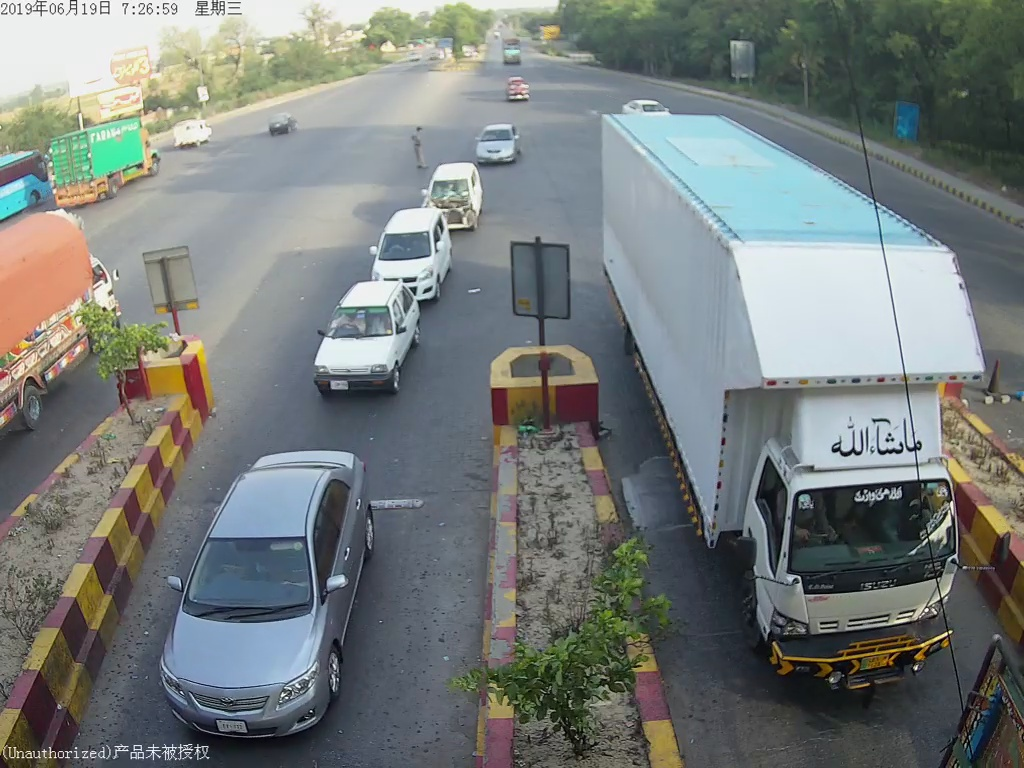Cat-1: (157, 436, 381, 735), (309, 284, 431, 400)
Cat-4: (599, 110, 979, 703)
